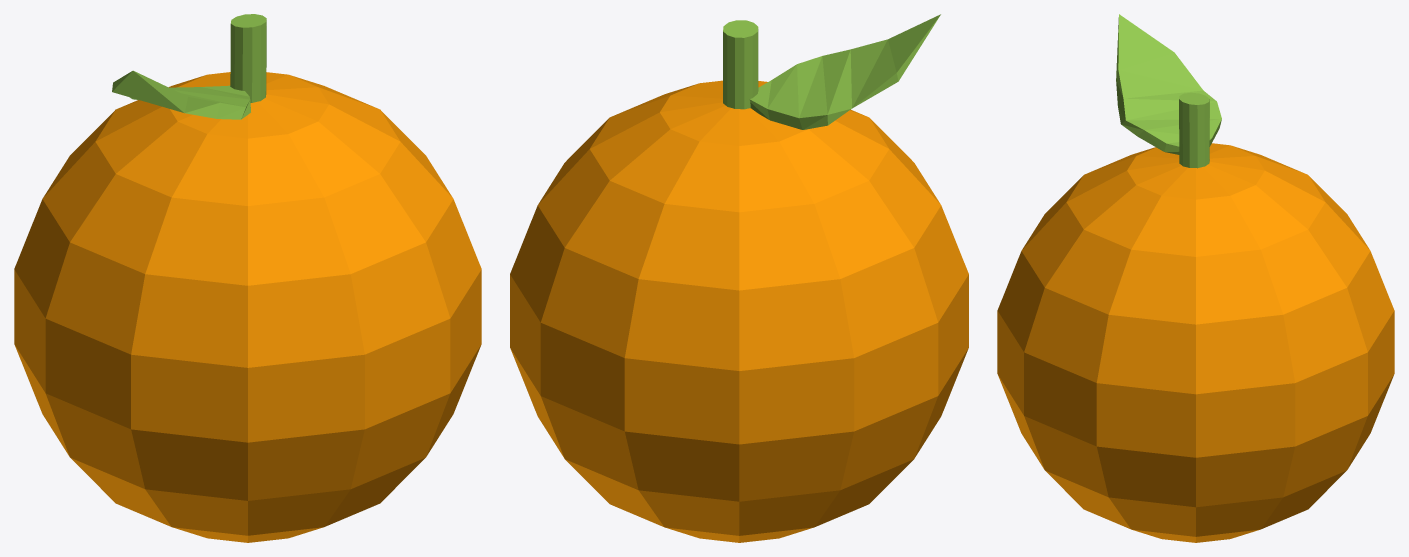
The model's file is Orange.glb.
3 views of the same model, side by side, from view 1: azimuth 30°, elevation 25°; view 2: azimuth 150°, elevation 25°; view 3: azimuth 270°, elevation 25° (orthographic). The views are drawn at different scales.
Visible parts, largest first — view 1: group879198542, group1203776062, group589766384; view 2: group879198542, group1203776062, group589766384; view 3: group879198542, group1203776062, group589766384.
Boxes of the visible parts, x1,y1,x2,y2 form: group879198542: (14, 72, 481, 542); group1203776062: (112, 70, 250, 119); group589766384: (230, 14, 266, 102); group879198542: (510, 80, 968, 542); group1203776062: (749, 14, 940, 129); group589766384: (723, 20, 758, 109); group879198542: (997, 143, 1394, 542); group1203776062: (1116, 14, 1221, 154); group589766384: (1179, 92, 1209, 168).
Bounding box in the file's own units: 0.1379 × 0.1703 × 0.1379.
